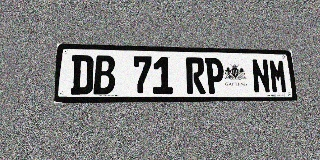1: (153, 57, 173, 94)
7: (132, 56, 152, 94)
B: (93, 55, 115, 94)
D: (70, 55, 94, 95)
M: (268, 59, 288, 93)
N: (251, 59, 271, 93)
P: (205, 58, 225, 94)
R: (186, 57, 206, 94)
